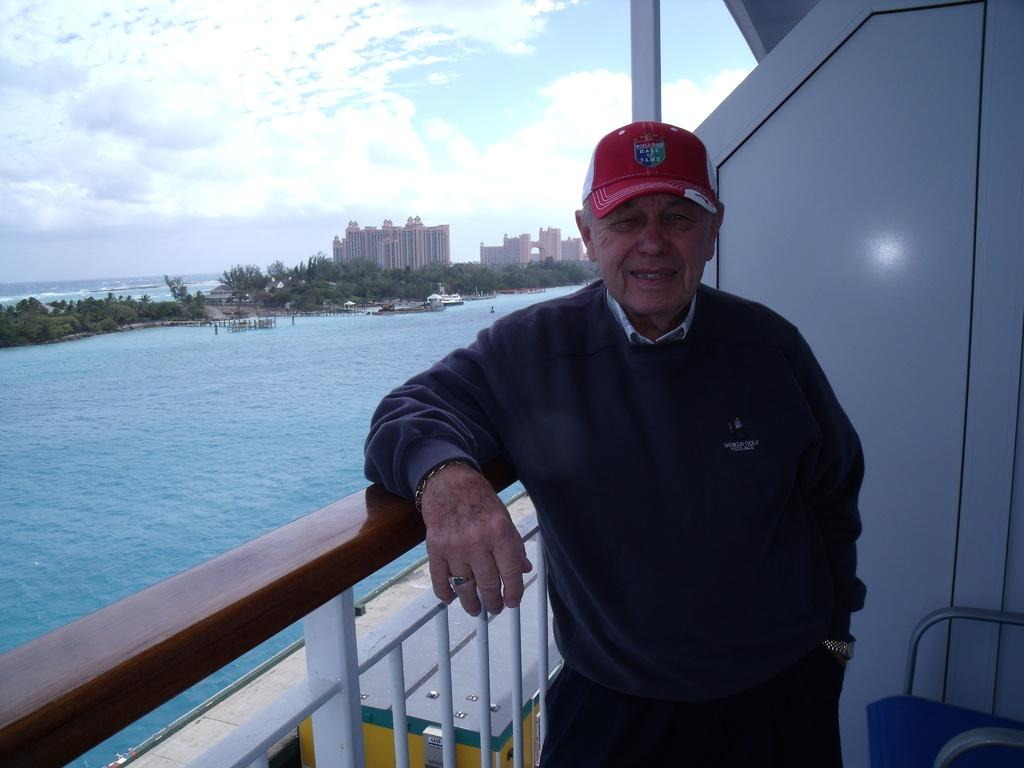Hat: (577, 114, 725, 217)
